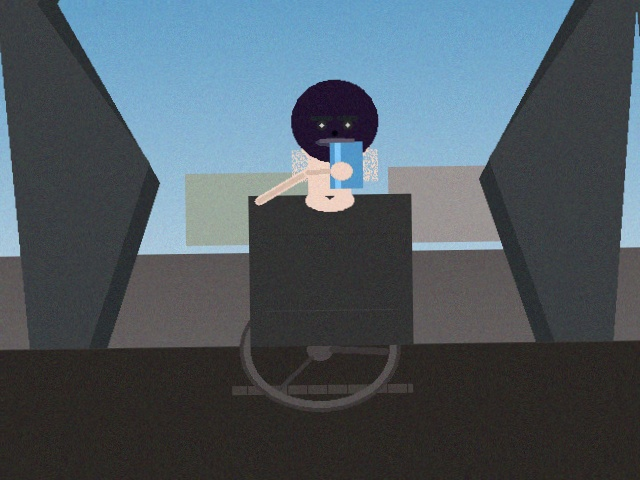drinking: (312, 129, 373, 198)
